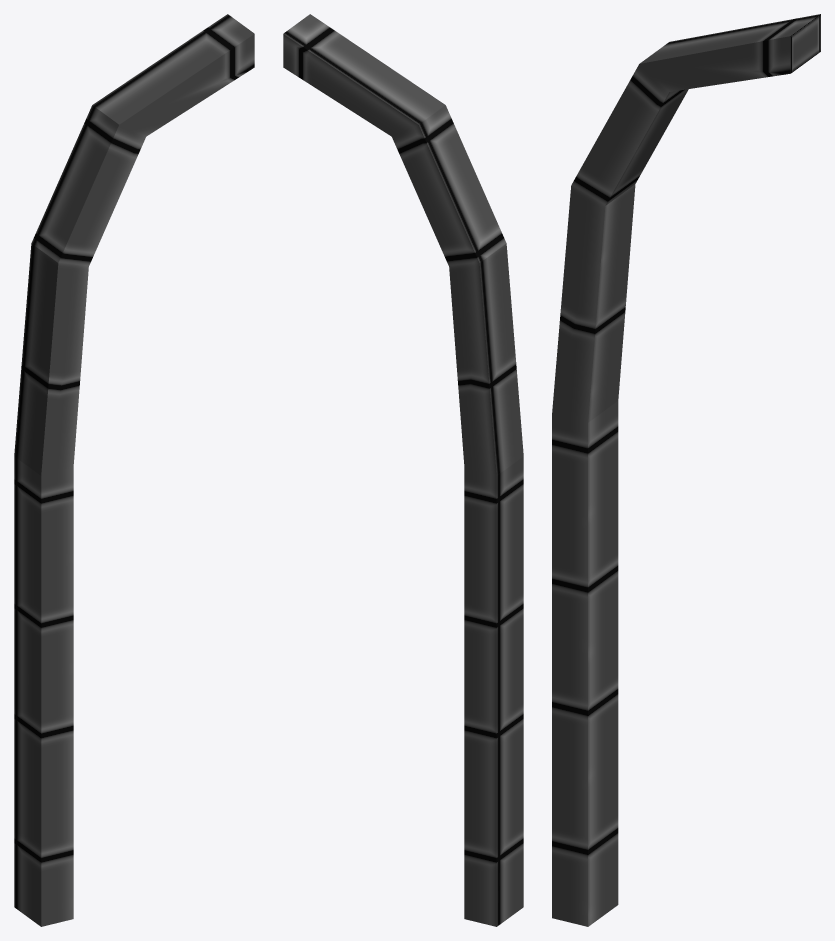
Rendered from Modular_Pillar_Half_Arch.fbx.
The picture shows the model from 3 angles, left to right: view 1: azimuth 30°, elevation 25°; view 2: azimuth 150°, elevation 25°; view 3: azimuth 330°, elevation 25°; orthographic projection. The views are drawn at different scales.
Parts seen in each view (by area): view 1: pCube66; view 2: pCube66; view 3: pCube66.
Boxes of the visible parts, x1=… form: pCube66: x1=14, y1=14, x2=254, y2=926; pCube66: x1=283, y1=14, x2=523, y2=926; pCube66: x1=552, y1=14, x2=820, y2=926.
Bounding box in the file's own units: 150 × 565 × 32.83.
